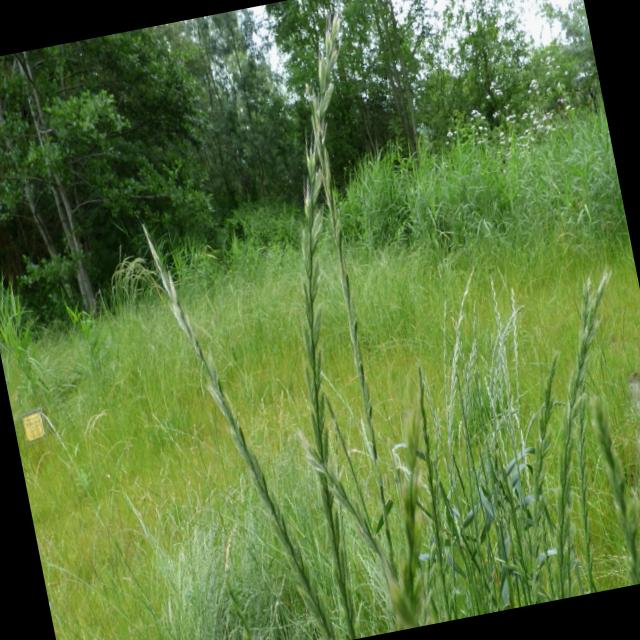Lolium: (91, 0, 640, 640), (225, 5, 462, 628), (271, 5, 463, 632), (136, 202, 345, 640), (512, 281, 640, 597)
